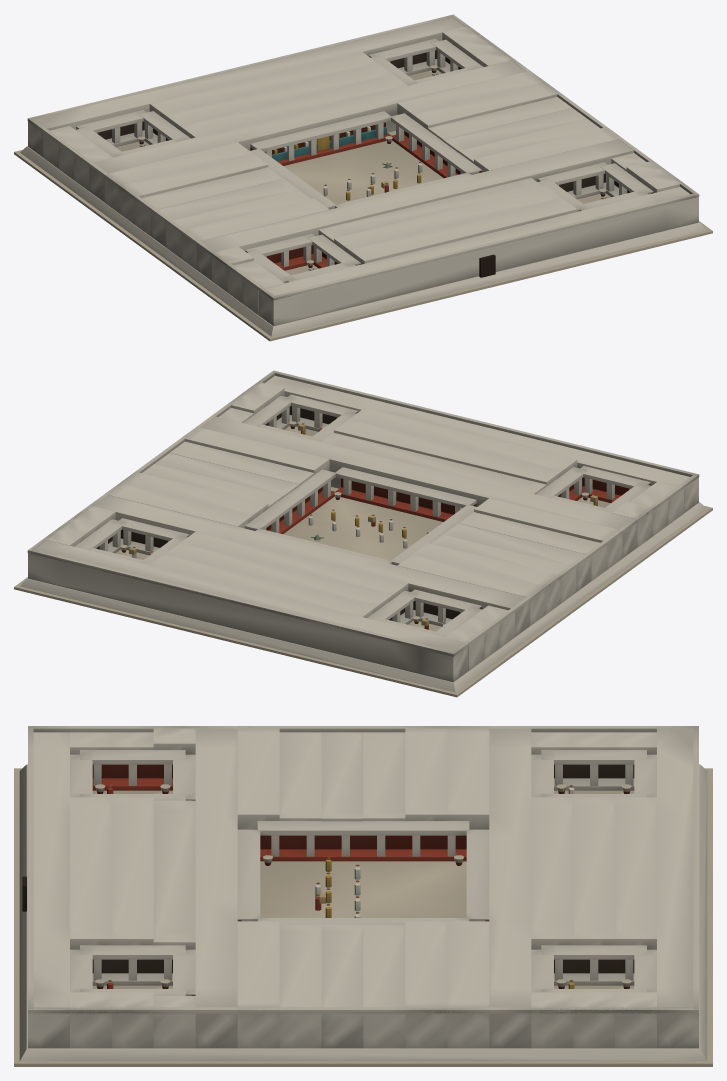
File: tepantitla.glb
The picture shows the model from 3 angles, top to bottom: view 1: azimuth 30°, elevation 25°; view 2: azimuth 150°, elevation 25°; view 3: azimuth 270°, elevation 25°; orthographic projection. The views are drawn at different scales.
Visible parts, largest first — view 1: p1_compound, p0_ground, p2_people; view 2: p1_compound, p0_ground; view 3: p1_compound, p0_ground, p2_people.
Part boxes in pixels (left/top/right/bottom): p1_compound: left=20, top=14, right=706, bottom=336; p0_ground: left=14, top=150, right=712, bottom=341; p2_people: left=272, top=126, right=422, bottom=200; p1_compound: left=20, top=370, right=706, bottom=692; p0_ground: left=14, top=506, right=712, bottom=697; p1_compound: left=19, top=726, right=707, bottom=1061; p0_ground: left=14, top=768, right=712, bottom=1066; p2_people: left=325, top=856, right=360, bottom=917.
Size of the model in its own units: 60 by 4.85 by 60.
